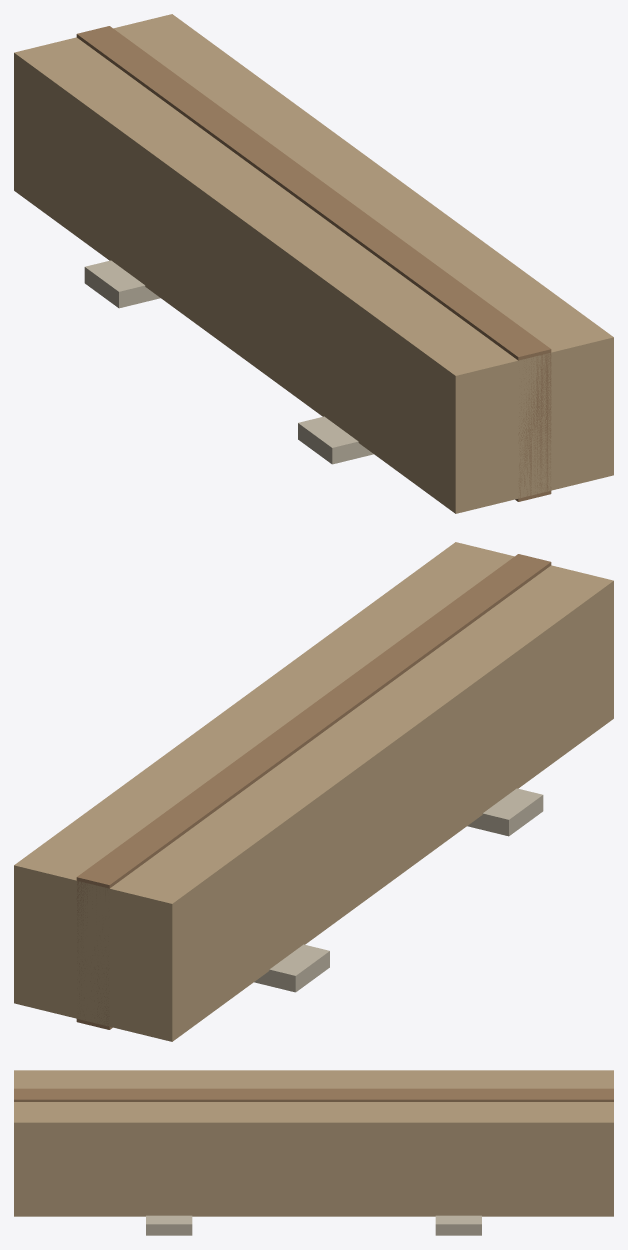
The model's file is splint.glb.
The picture shows the model from 3 angles, top to bottom: view 1: azimuth 30°, elevation 25°; view 2: azimuth 150°, elevation 25°; view 3: azimuth 270°, elevation 25°; orthographic projection. The views are drawn at different scales.
Parts seen in each view (by area): view 1: 00_splint, 03_reinforcement, 01_wrap_lower, 02_wrap_upper; view 2: 00_splint, 03_reinforcement, 02_wrap_upper, 01_wrap_lower; view 3: 00_splint, 03_reinforcement, 01_wrap_lower, 02_wrap_upper.
Boxes of the visible parts, left/top/right/bottom form: 00_splint: left=14, top=14, right=613, bottom=513; 03_reinforcement: left=76, top=26, right=551, bottom=501; 01_wrap_lower: left=84, top=260, right=160, bottom=308; 02_wrap_upper: left=298, top=416, right=373, bottom=464; 00_splint: left=14, top=542, right=613, bottom=1041; 03_reinforcement: left=76, top=554, right=551, bottom=1029; 02_wrap_upper: left=467, top=788, right=543, bottom=836; 01_wrap_lower: left=254, top=944, right=329, bottom=992; 00_splint: left=14, top=1070, right=613, bottom=1216; 03_reinforcement: left=14, top=1088, right=613, bottom=1101; 01_wrap_lower: left=435, top=1215, right=481, bottom=1235; 02_wrap_upper: left=146, top=1215, right=192, bottom=1235.
Size of the model in its own units: 0.16 by 0.1135 by 0.58.
